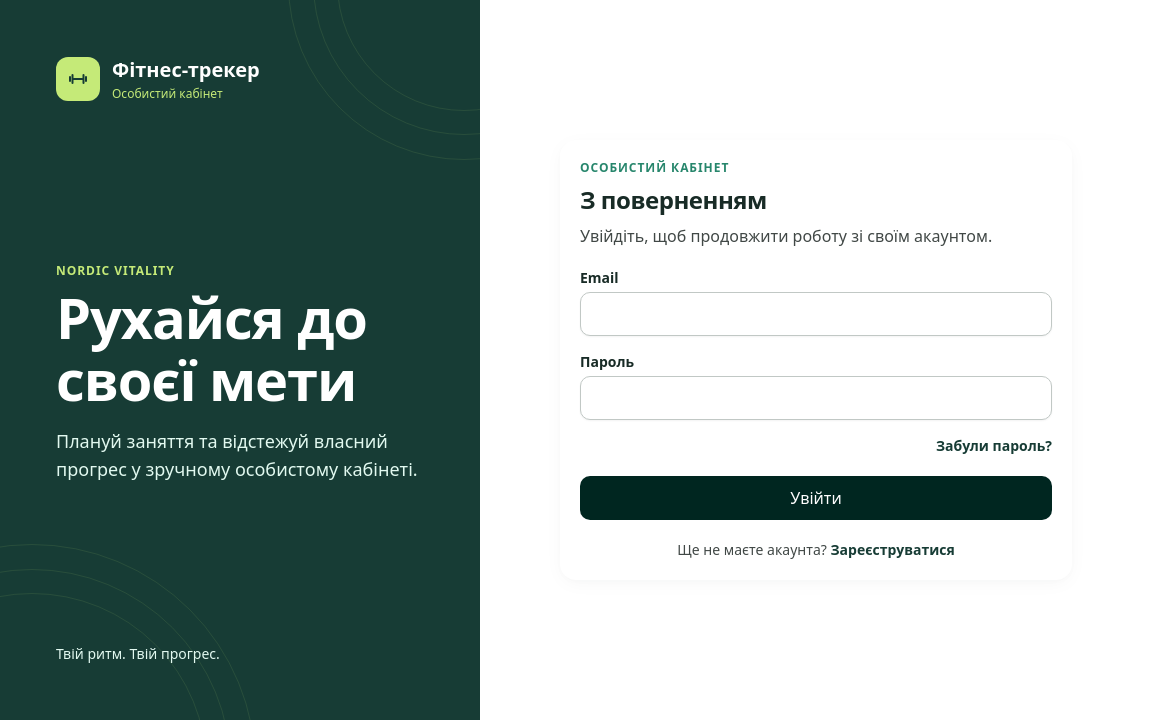
Test case: invalid credentials and network failures are visible
Expected: the button "Увійти" is shown, [580,476,1052,520]
Type "member@example.test" into the field labelled "Email".
click(816, 314); type("member@example.test")  # box [580,292,1052,336]
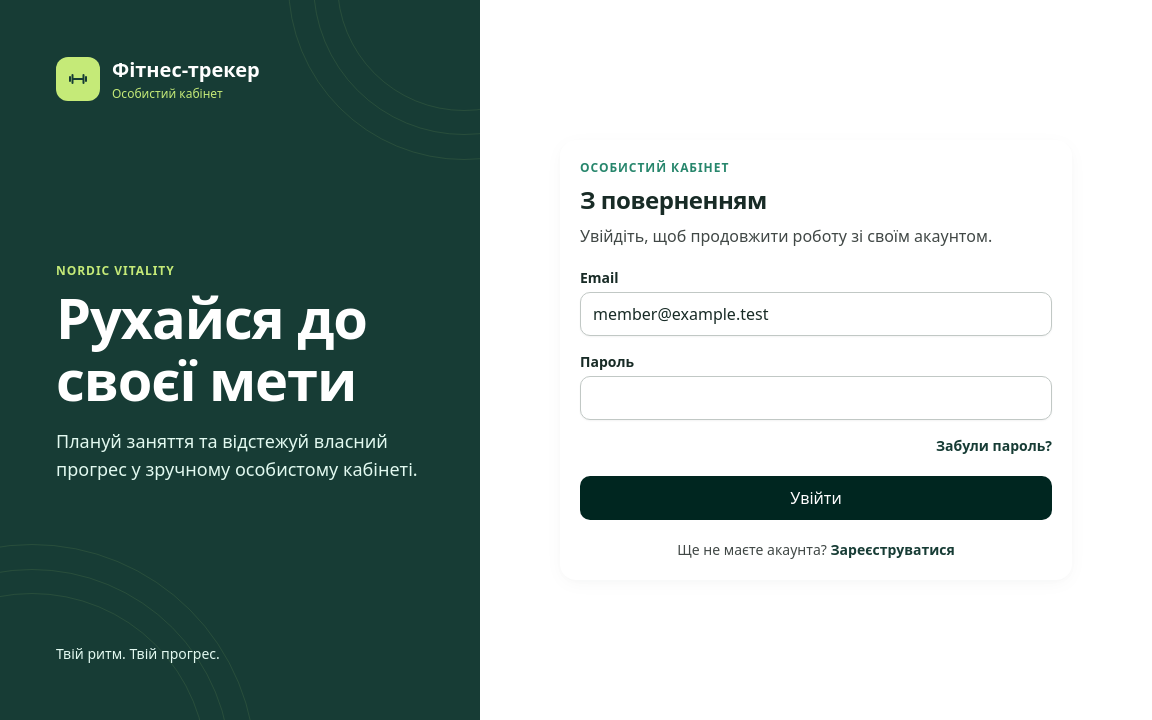
Type "WrongPassword2026!" into the password field labelled "Пароль".
click(816, 398); type("WrongPassword2026!")  # box [580,376,1052,420]
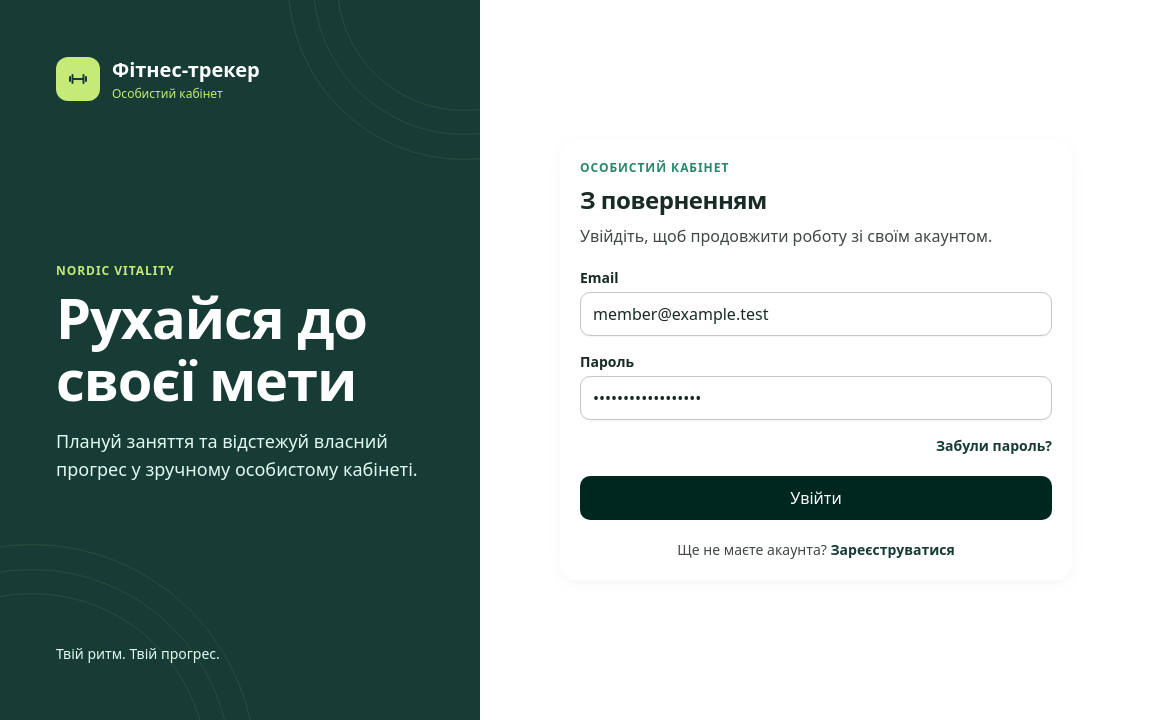
Click the button "Увійти".
click(816, 498)  # box [580,476,1052,520]
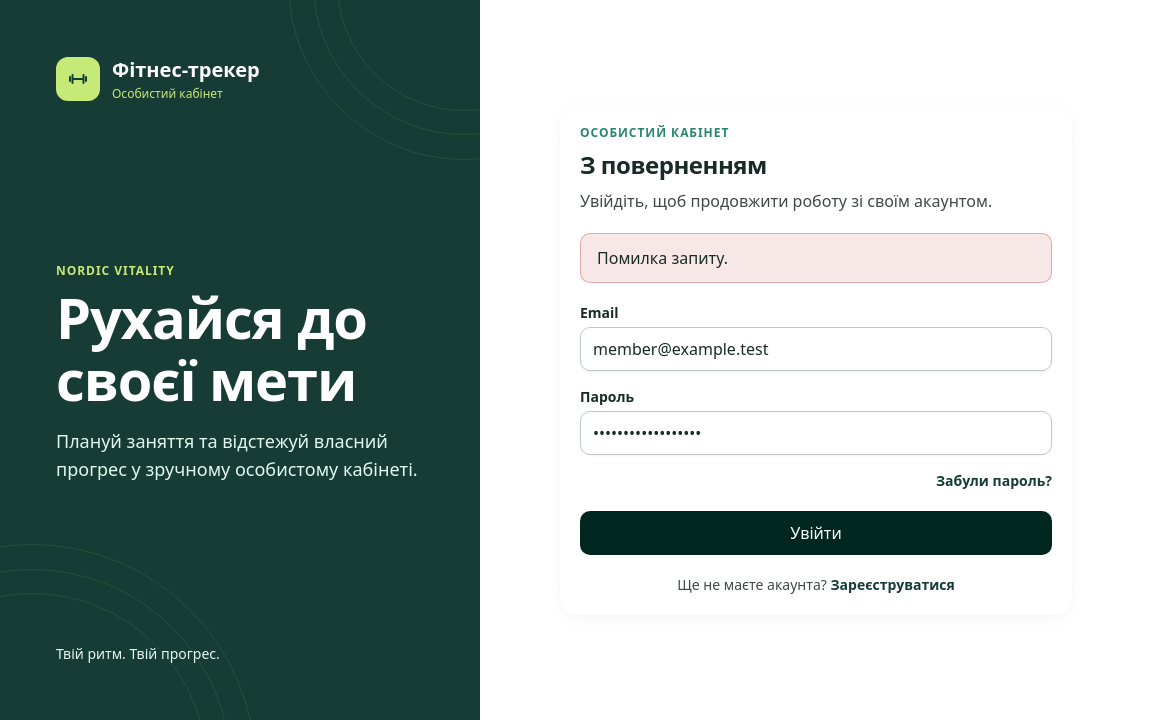
Now the text "Помилка запиту." is shown, box [580,233,1052,283]
Click the button "Увійти".
click(816, 533)  # box [580,511,1052,555]
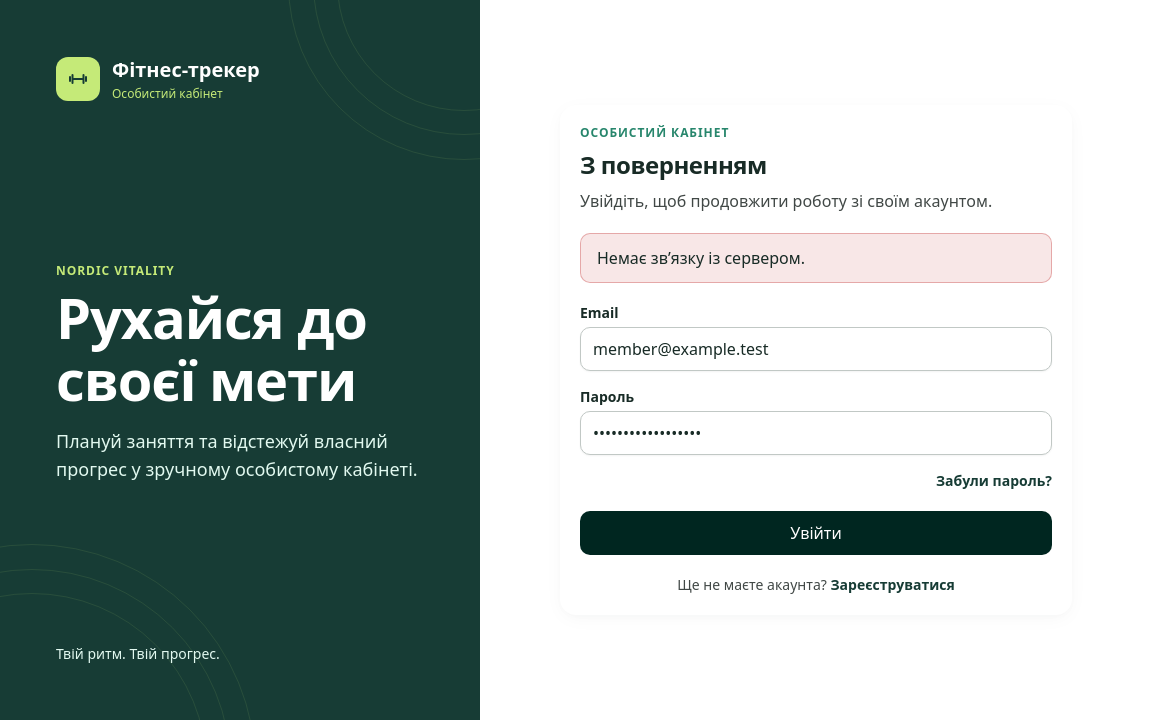
Now the text "Немає зв’язку із сервером." is shown, box [580,233,1052,283]
